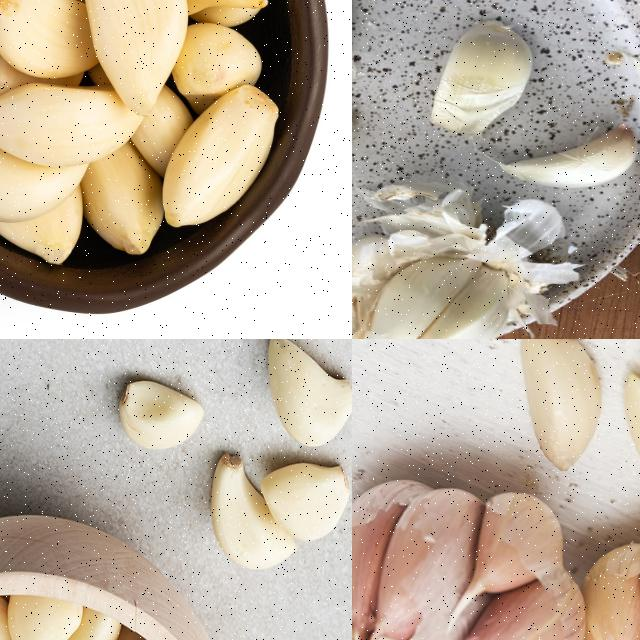garlic: (352, 471, 574, 639), (158, 85, 284, 236), (352, 229, 525, 338), (208, 451, 351, 574), (70, 0, 189, 117), (424, 19, 533, 133), (518, 339, 605, 475), (79, 147, 166, 258), (0, 114, 90, 219), (266, 339, 351, 446), (486, 129, 636, 188), (0, 0, 103, 84), (116, 378, 206, 451), (617, 364, 639, 486)
